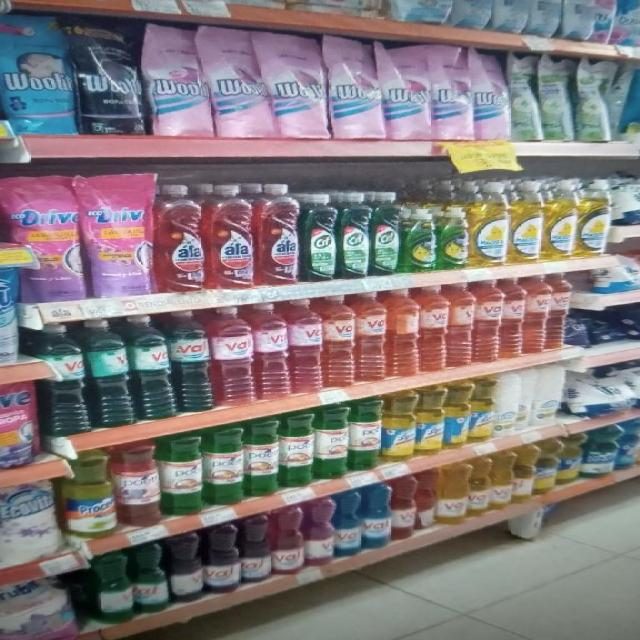ala_conc_rojo: (156, 183, 206, 293), (207, 183, 255, 290), (258, 183, 300, 287)
cif_conc_botella_verde: (302, 190, 337, 282), (339, 192, 370, 278), (371, 191, 401, 276)
drive: (8, 175, 83, 302), (84, 172, 153, 298)
magistral_con_amarillo: (472, 181, 508, 267), (510, 179, 543, 264), (578, 178, 610, 258), (546, 178, 576, 261)
